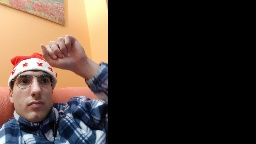Pugno: (38, 33, 87, 70)
